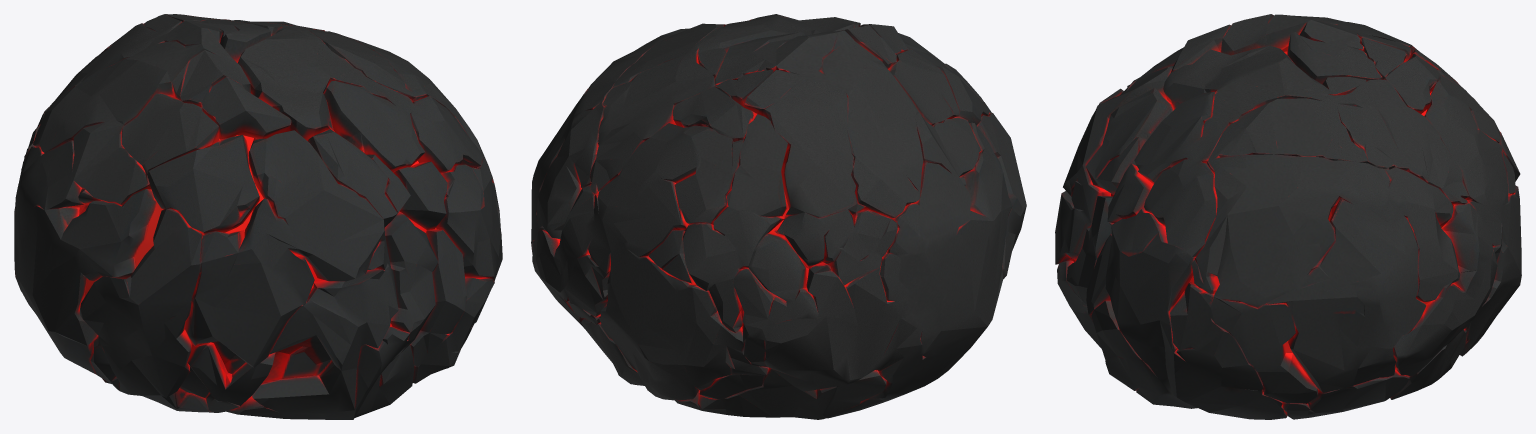
Rendered from boulder.glb.
3 views of the same model, side by side, from view 1: azimuth 30°, elevation 25°; view 2: azimuth 150°, elevation 25°; view 3: azimuth 270°, elevation 25° (orthographic). The views are drawn at different scales.
Bounding box in the file's own units: 1.88 × 1.44 × 1.9.
Materials: 1 (1 with a texture image).
